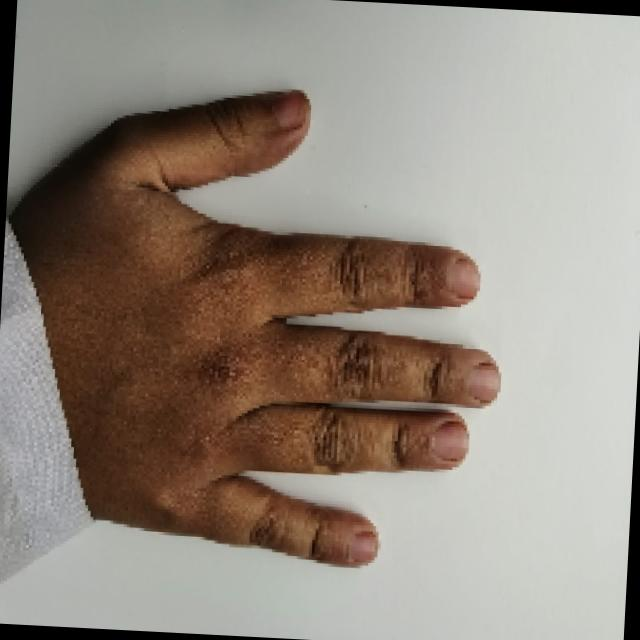Nail: (267, 91, 310, 128), (433, 422, 468, 461), (447, 259, 480, 299), (469, 363, 499, 402), (351, 536, 377, 563)
